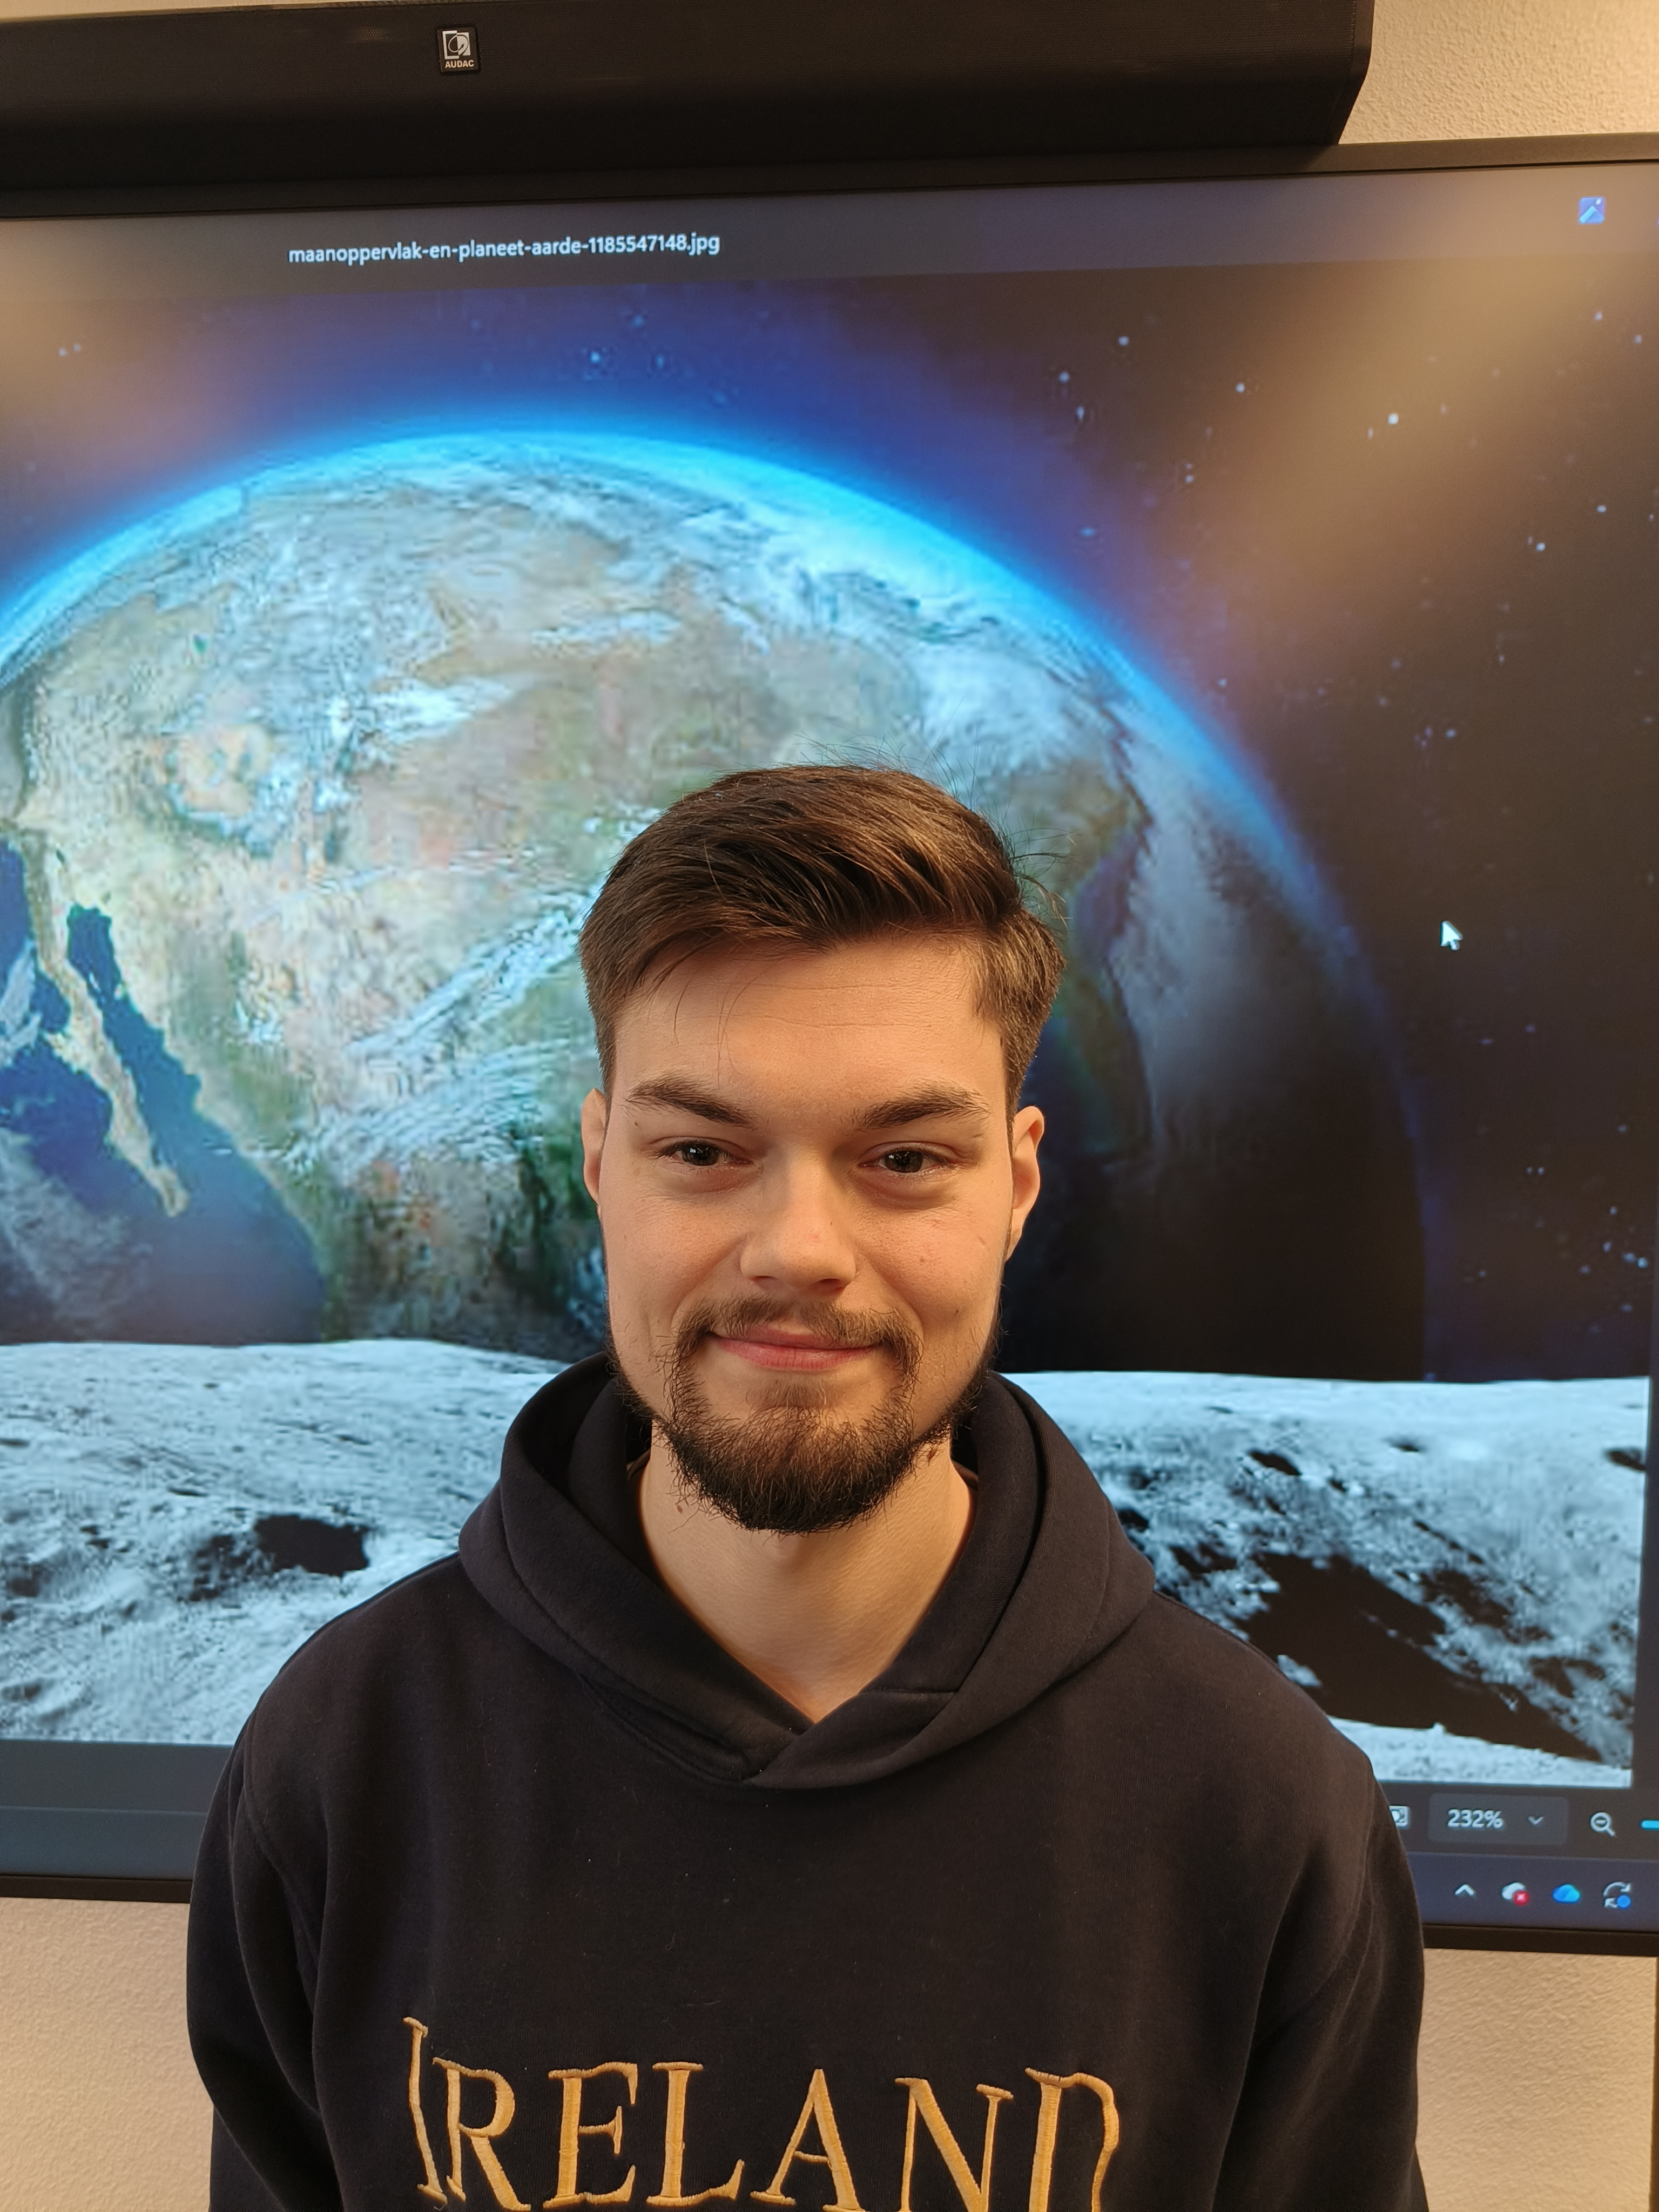face: (561, 784, 1054, 1492)
